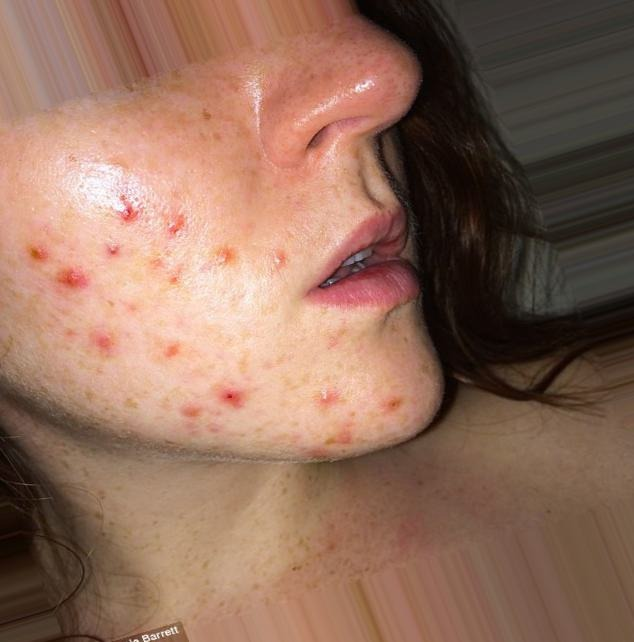Acne: (19, 184, 414, 453)
